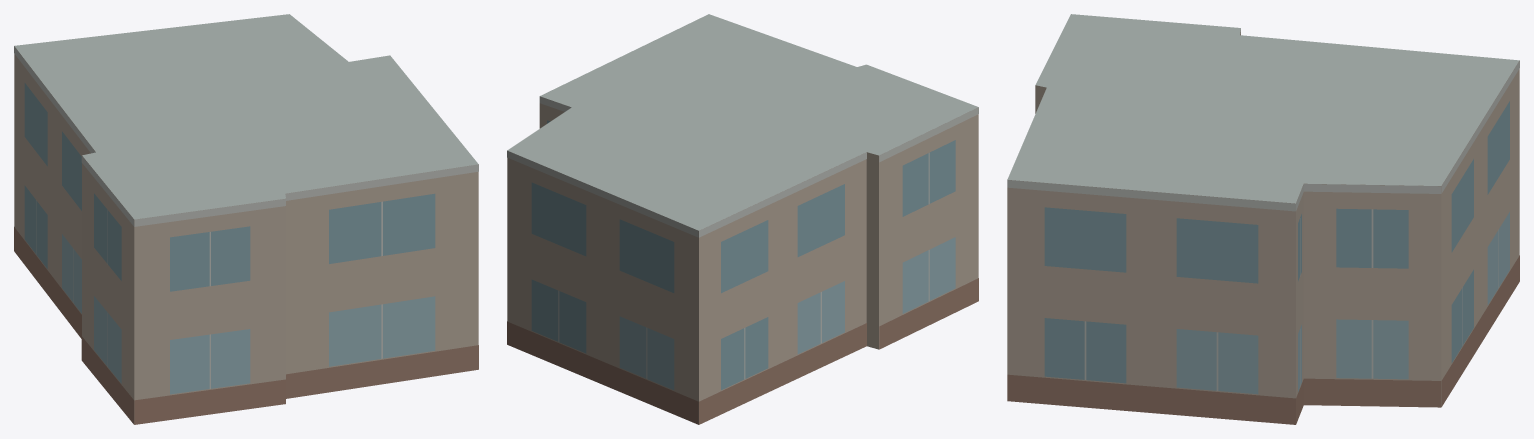
File: survey-upis-32685641.glb
The picture shows the model from 3 angles, left to right: view 1: azimuth 30°, elevation 25°; view 2: azimuth 150°, elevation 25°; view 3: azimuth 270°, elevation 25°; orthographic projection. The views are drawn at different scales.
Visible parts, largest first — view 1: survey-upis-32685641.tmp; view 2: survey-upis-32685641.tmp; view 3: survey-upis-32685641.tmp.
Boxes of the visible parts, <box> form: survey-upis-32685641.tmp: <box>14,14,478,424</box>; survey-upis-32685641.tmp: <box>507,14,978,424</box>; survey-upis-32685641.tmp: <box>1007,14,1519,424</box>.
Size of the model in its own units: 12.5 by 6.8 by 14.28.
